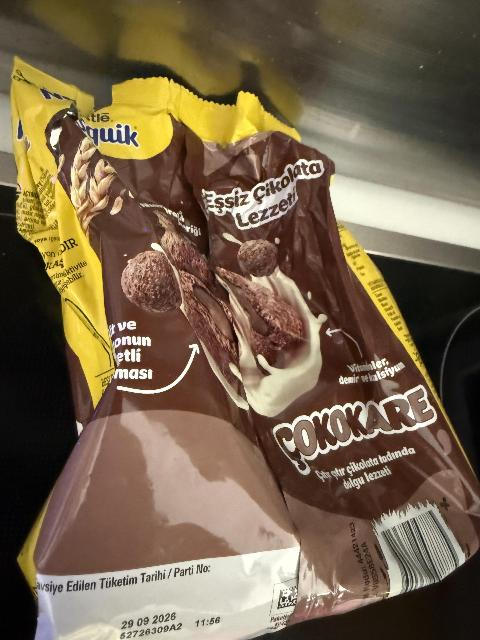Plastik: (6, 56, 480, 640)
